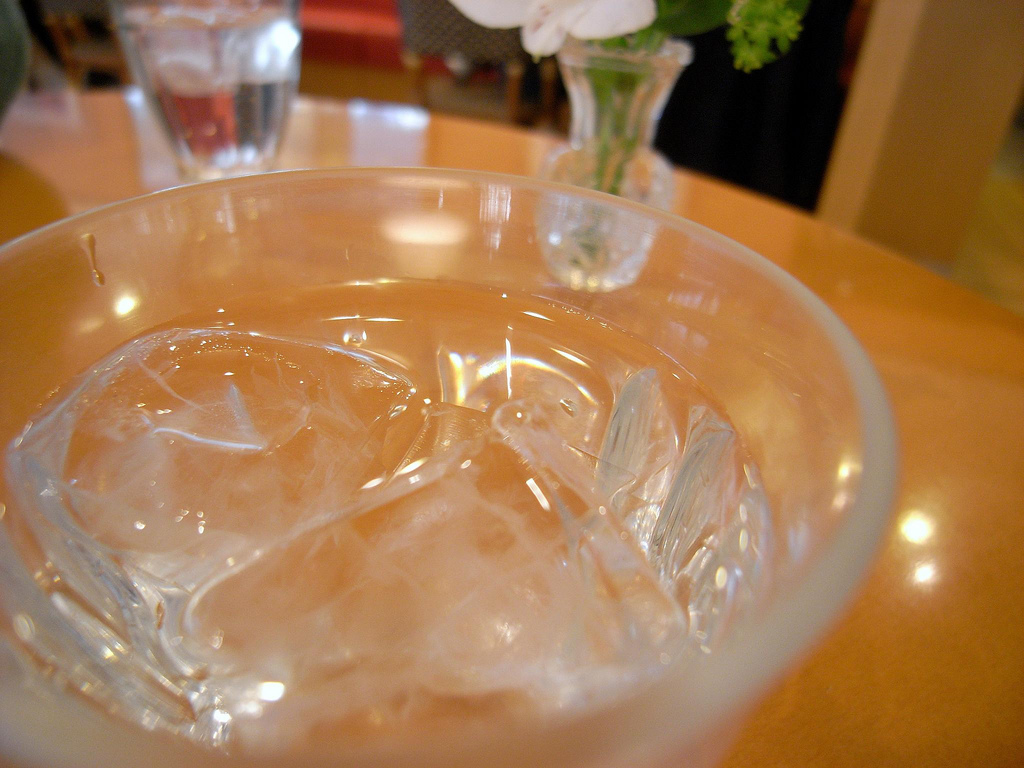glass of water: (75, 220, 791, 745)
